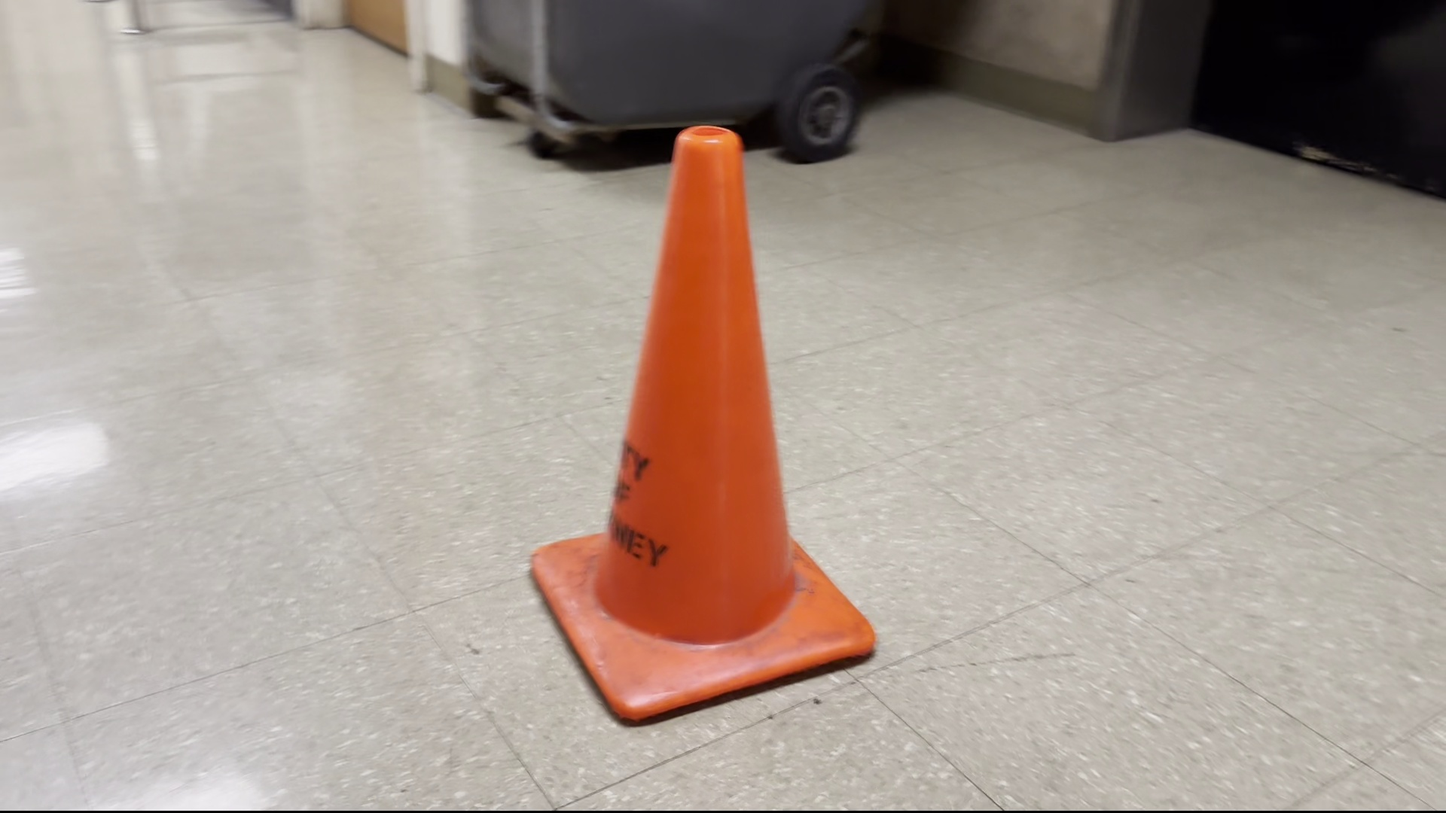traffic_cone: (529, 124, 877, 724)
